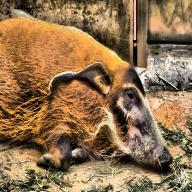boar: (0, 7, 173, 172)
